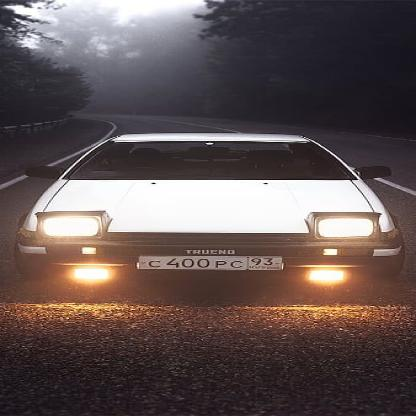car front: (1, 129, 416, 297)
number plate: (126, 254, 286, 271)
